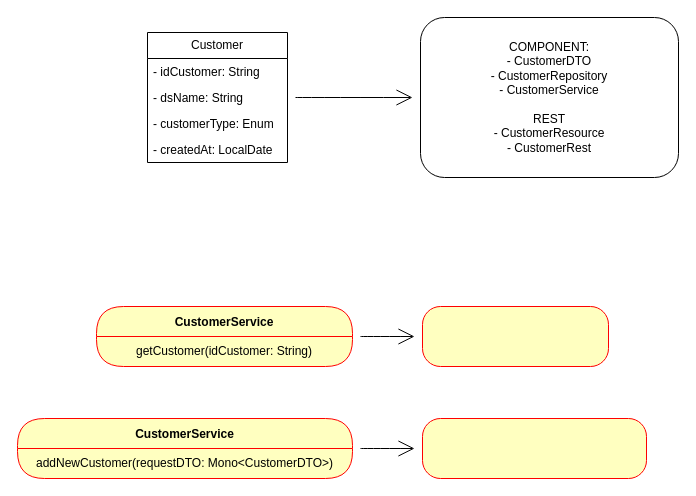
The diagram is 696 pixels wide and 496 high, and some of its shapes have lost their labels. Each missing label, with the centre of its shape:
Register a new customer. Before save, should validate unique customer by name: the point at 534,448
Return a specific customer giving his id: the point at 515,336
